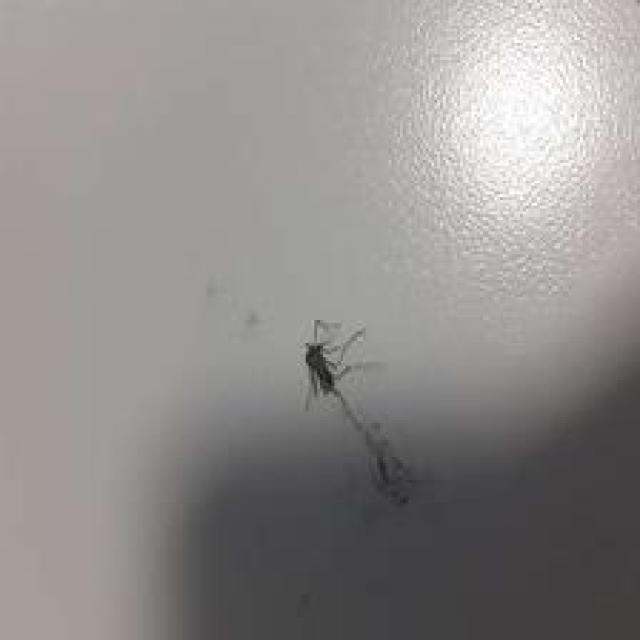Aedes albopictus: (298, 317, 422, 506)
